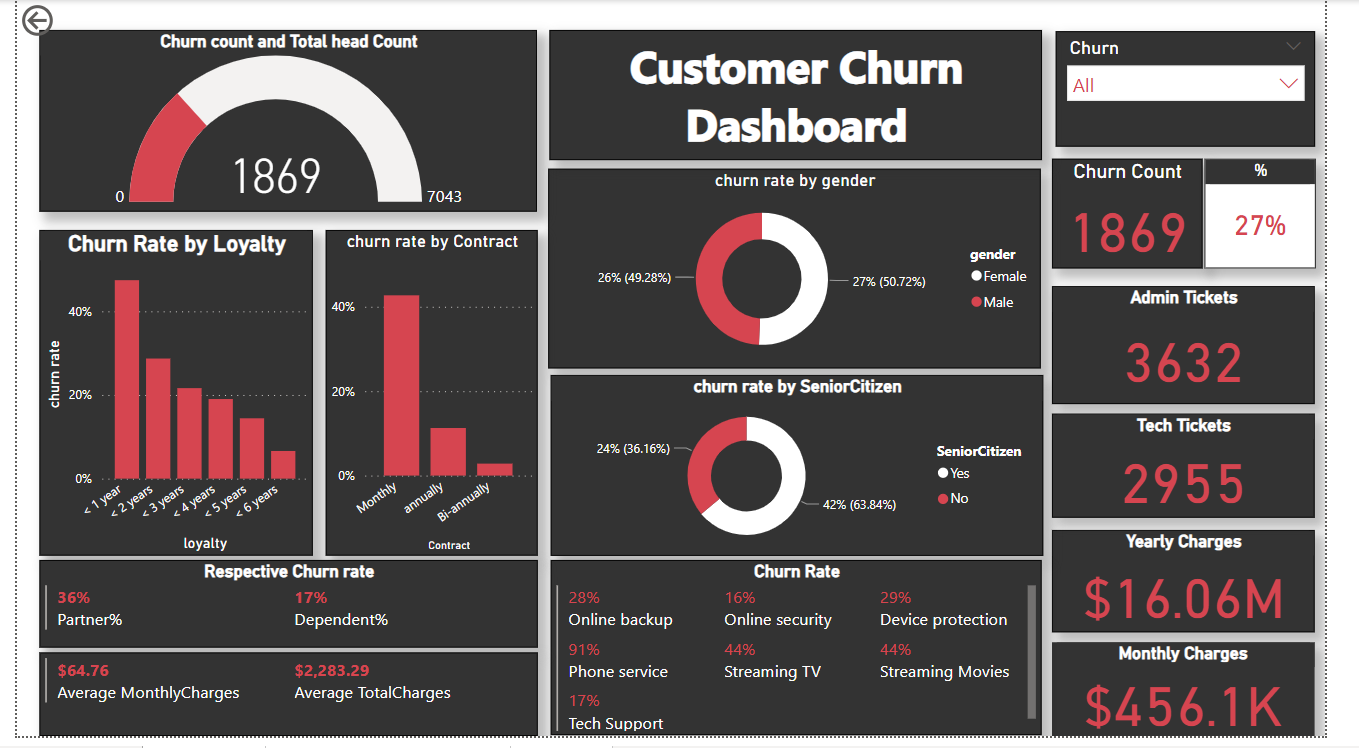

The dashboard page shown, as its layout file describes it:
{"tool":"powerbi","page":{"name":"Customer_Churn_Dashboard","canvas":[1280,720],"ordinal":1},"visuals":[{"type":"textbox","box":[10,0,280,280],"z":0},{"type":"clusteredColumnChart","title":"Churn Rate by Loyalty","fields":{"Category":["01 Churn-Dataset.loyalty"],"Y":["01 Churn-Dataset.churn rate"]},"box":[22,225,267.6,318.4],"z":1000},{"type":"slicer","fields":{"Values":["01 Churn-Dataset.Churn"]},"box":[1015.4,30.2,253.9,112.5],"z":2000},{"type":"card","title":"Churn Count","fields":{"Values":["01 Churn-Dataset.churn_count"]},"box":[1012.7,155.1,146.8,107],"z":3000},{"type":"card","title":"%","fields":{"Values":["01 Churn-Dataset.churn rate"]},"box":[1160.9,155.1,108.4,107],"z":4000},{"type":"card","title":"Yearly Charges","fields":{"Values":["Sum(01 Churn-Dataset.TotalCharges)"]},"box":[1012.7,518.7,256.6,100.2],"z":5000},{"type":"card","title":"Monthly Charges","fields":{"Values":["Sum(01 Churn-Dataset.MonthlyCharges)"]},"box":[1012.7,628.5,256.6,91.9],"z":6000},{"type":"donutChart","fields":{"Category":["01 Churn-Dataset.gender"],"Y":["01 Churn-Dataset.churn rate"]},"box":[520.1,164.7,481.6,194.9],"z":7000},{"type":"columnChart","fields":{"Category":["01 Churn-Dataset.Contract"],"Y":["01 Churn-Dataset.churn rate"]},"box":[301.9,225,207.2,318.4],"z":8000},{"type":"gauge","title":"Churn count and Total head Count","fields":{"MaxValue":["01 Churn-Dataset.Row Count"],"Y":["01 Churn-Dataset.churn_count"]},"box":[22,29.3,486.5,177.2],"z":9000},{"type":"textbox","box":[520.5,29.5,481.7,127.4],"z":10000},{"type":"donutChart","fields":{"Category":["01 Churn-Dataset.SeniorCitizen"],"Y":["01 Churn-Dataset.churn rate"]},"box":[521.4,366.4,481.6,177],"z":11000},{"type":"card","title":"Admin Tickets","fields":{"Values":["Sum(01 Churn-Dataset.numAdminTickets)"]},"box":[1012.6,280.2,256.6,115.1],"z":12000},{"type":"card","title":"Tech Tickets","fields":{"Values":["Sum(01 Churn-Dataset.numTechTickets)"]},"box":[1012.7,404.8,256.6,101.5],"z":13000},{"type":"multiRowCard","title":"Churn Rate","fields":{"Values":["01 Churn-Dataset.Online backup in %","01 Churn-Dataset.Online security in %","01 Churn-Dataset.Device protection in %","01 Churn-Dataset.Streaming Movies in %","01 Churn-Dataset.Streaming TV in %","01 Churn-Dataset.Streaming Movies in %1","01 Churn-Dataset.Tech Support in %"]},"box":[521.4,547.5,480.3,171.5],"z":14000},{"type":"actionButton","box":[0,0,100,40],"z":15000},{"type":"multiRowCard","title":"Respective Churn rate","fields":{"Values":["01 Churn-Dataset.Partner in %","01 Churn-Dataset.Dependent%"]},"box":[22.2,547.9,486.9,86],"z":16000},{"type":"multiRowCard","fields":{"Values":["01 Churn-Dataset.Average MonthlyCharges","01 Churn-Dataset.Average TotalCharges"]},"box":[22.2,638.1,486.9,81.8],"z":17000}]}

Visuals, with their boxes in screenshot pixels (x1, y1, x2, y2):
textbox: Rect(24, 0, 311, 283)
"Churn Rate by Loyalty" clusteredColumnChart: Rect(37, 227, 310, 552)
slicer - 01 Churn-Dataset.Churn: Rect(1053, 27, 1312, 142)
"Churn Count" card: Rect(1050, 155, 1200, 265)
"%" card: Rect(1202, 155, 1312, 265)
"Yearly Charges" card: Rect(1050, 527, 1312, 629)
"Monthly Charges" card: Rect(1050, 639, 1312, 733)
donutChart - 01 Churn-Dataset.gender x 01 Churn-Dataset.churn rate: Rect(546, 165, 1039, 364)
columnChart - 01 Churn-Dataset.Contract x 01 Churn-Dataset.churn rate: Rect(323, 227, 535, 552)
"Churn count and Total head Count" gauge: Rect(37, 26, 534, 208)
textbox: Rect(547, 27, 1039, 157)
donutChart - 01 Churn-Dataset.SeniorCitizen x 01 Churn-Dataset.churn rate: Rect(547, 371, 1040, 552)
"Admin Tickets" card: Rect(1050, 283, 1312, 401)
"Tech Tickets" card: Rect(1050, 410, 1312, 514)
"Churn Rate" multiRowCard: Rect(547, 556, 1039, 732)
actionButton: Rect(14, 0, 116, 37)
"Respective Churn rate" multiRowCard: Rect(37, 557, 535, 645)
multiRowCard - 01 Churn-Dataset.Average MonthlyCharges x 01 Churn-Dataset.Average TotalCharges: Rect(37, 649, 535, 733)
